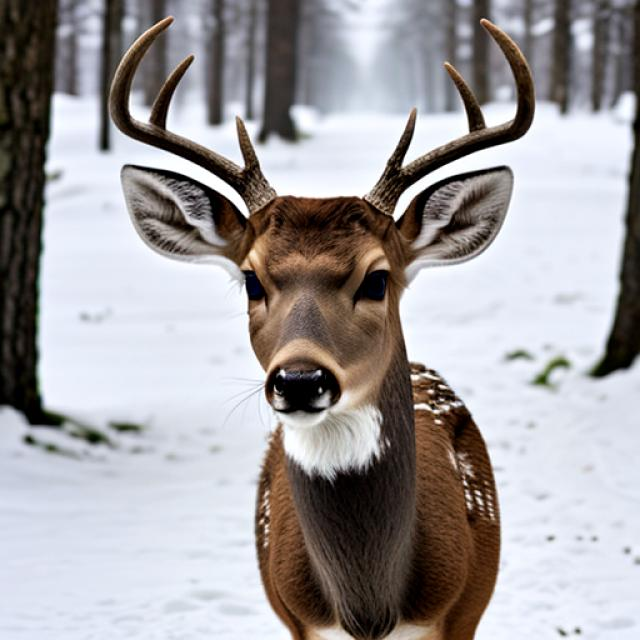deer: (77, 0, 551, 605)
